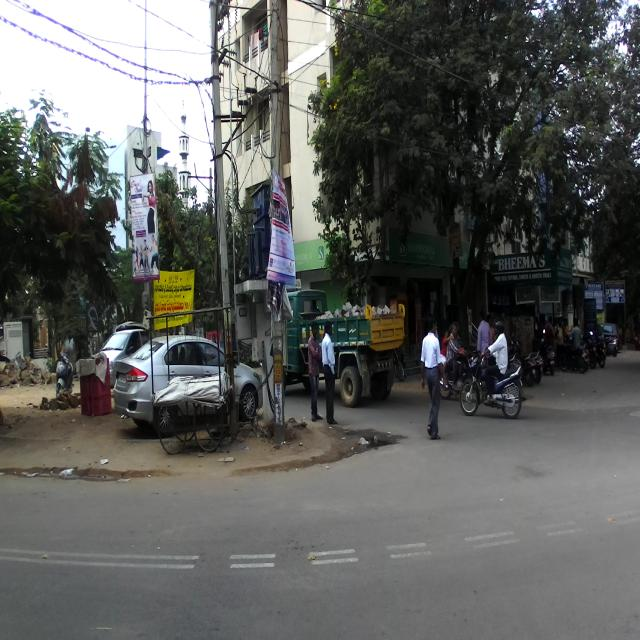motorcycle ahead at: (462, 354, 526, 424)
person ahead at: (416, 321, 450, 456)
